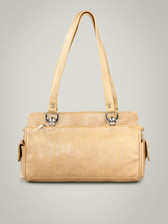bag: (12, 9, 157, 188)
